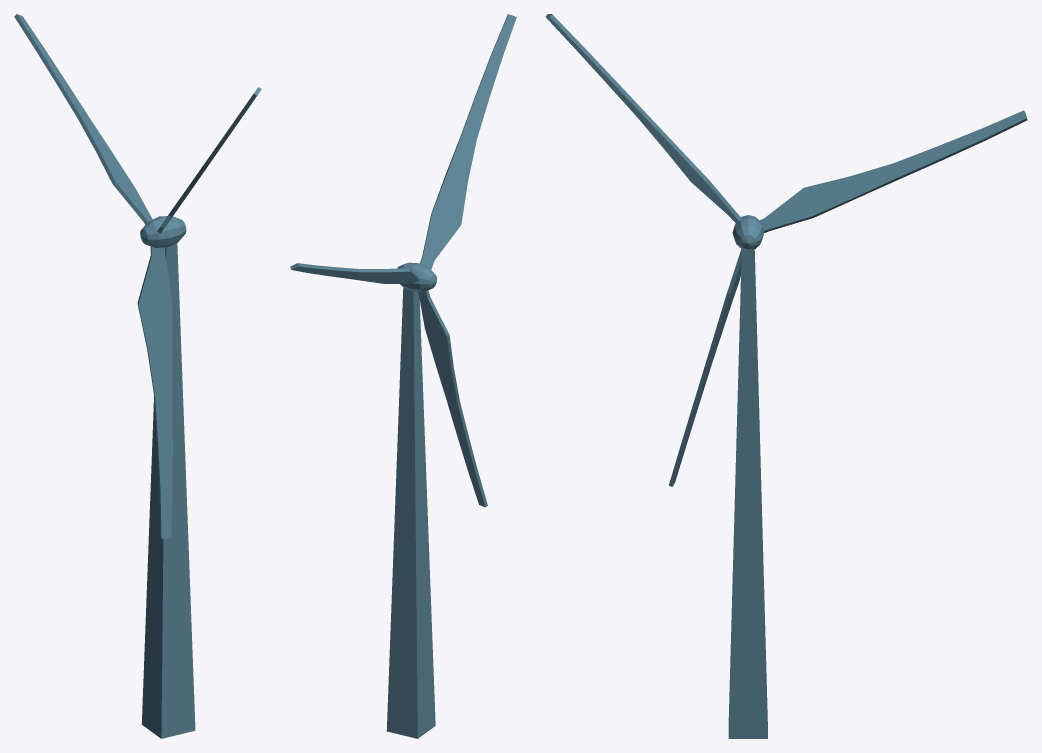
Rendered from Windmill.fbx.
3 renders of one model, left to right at view 1: azimuth 30°, elevation 25°; view 2: azimuth 150°, elevation 25°; view 3: azimuth 270°, elevation 25°, orthographic. The views are drawn at different scales.
Parts seen in each view (by area): view 1: Windmill; view 2: Windmill; view 3: Windmill.
Boxes of the visible parts, x1,y1,x2,y2 form: Windmill: (14,14,261,738); Windmill: (290,14,516,738); Windmill: (545,14,1027,738).
Size of the model in its own units: 346 by 3773 by 2315.
